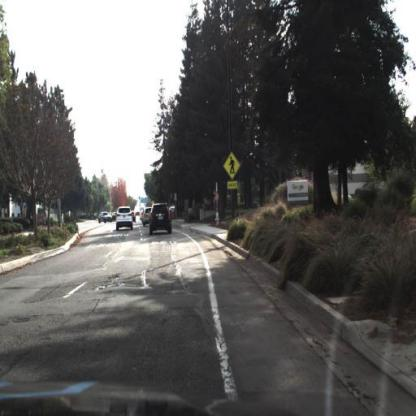car: (150, 202, 174, 237), (116, 205, 135, 232), (142, 206, 156, 227), (99, 211, 113, 225)
